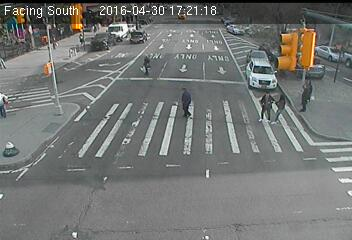neg: (183, 36, 206, 66), (102, 51, 124, 82), (211, 19, 233, 49), (29, 63, 50, 90), (41, 137, 61, 163), (312, 32, 329, 54), (95, 115, 111, 137), (7, 134, 23, 156), (43, 43, 58, 63), (328, 36, 343, 56), (74, 77, 87, 95), (282, 31, 295, 48), (40, 102, 52, 119), (16, 36, 26, 49), (25, 98, 35, 110)
pos: (297, 76, 324, 113), (172, 86, 199, 122), (249, 91, 274, 124), (270, 90, 293, 122), (140, 56, 155, 76), (50, 34, 60, 47), (76, 32, 86, 44)
